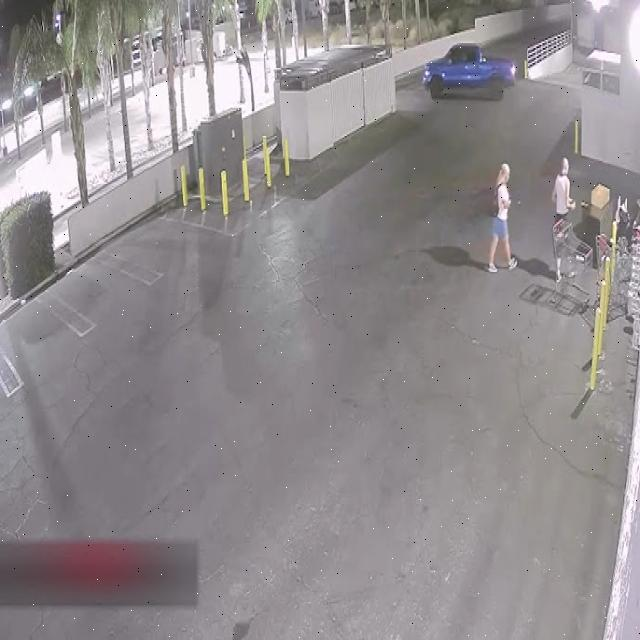standing: (489, 164, 518, 272)
